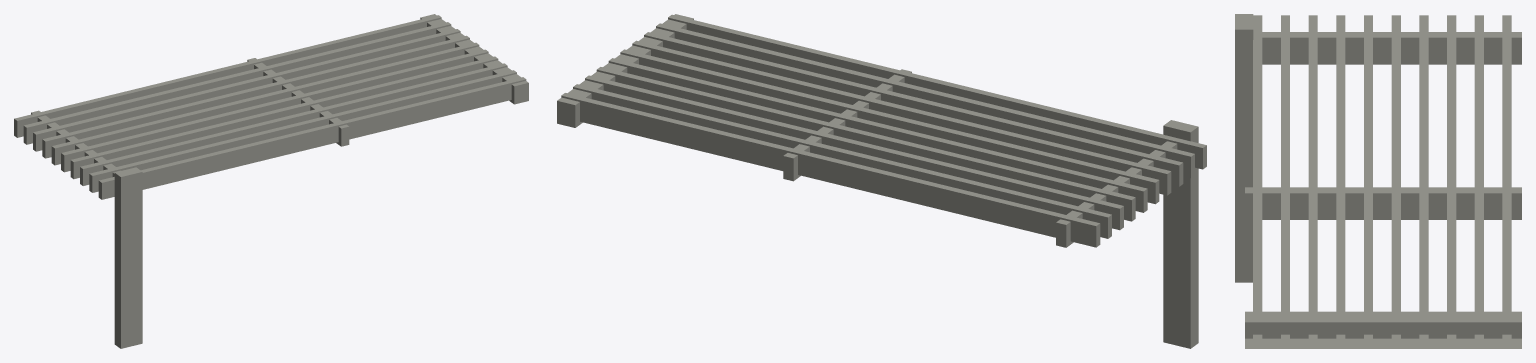
Rendered from Sunroof_01.fbx.
3 renders of one model, left to right at view 1: azimuth 30°, elevation 25°; view 2: azimuth 150°, elevation 25°; view 3: azimuth 270°, elevation 25°, orthographic. The views are drawn at different scales.
Visible parts, largest first — view 1: sun_roof; view 2: sun_roof; view 3: sun_roof.
Part boxes in pixels (x1,y1,x2,y2): sun_roof: (14, 14, 528, 348); sun_roof: (557, 14, 1206, 348); sun_roof: (1235, 14, 1521, 348).
Size of the model in its own units: 782 by 302 by 311.
Materials: 1 (1 with a texture image).
